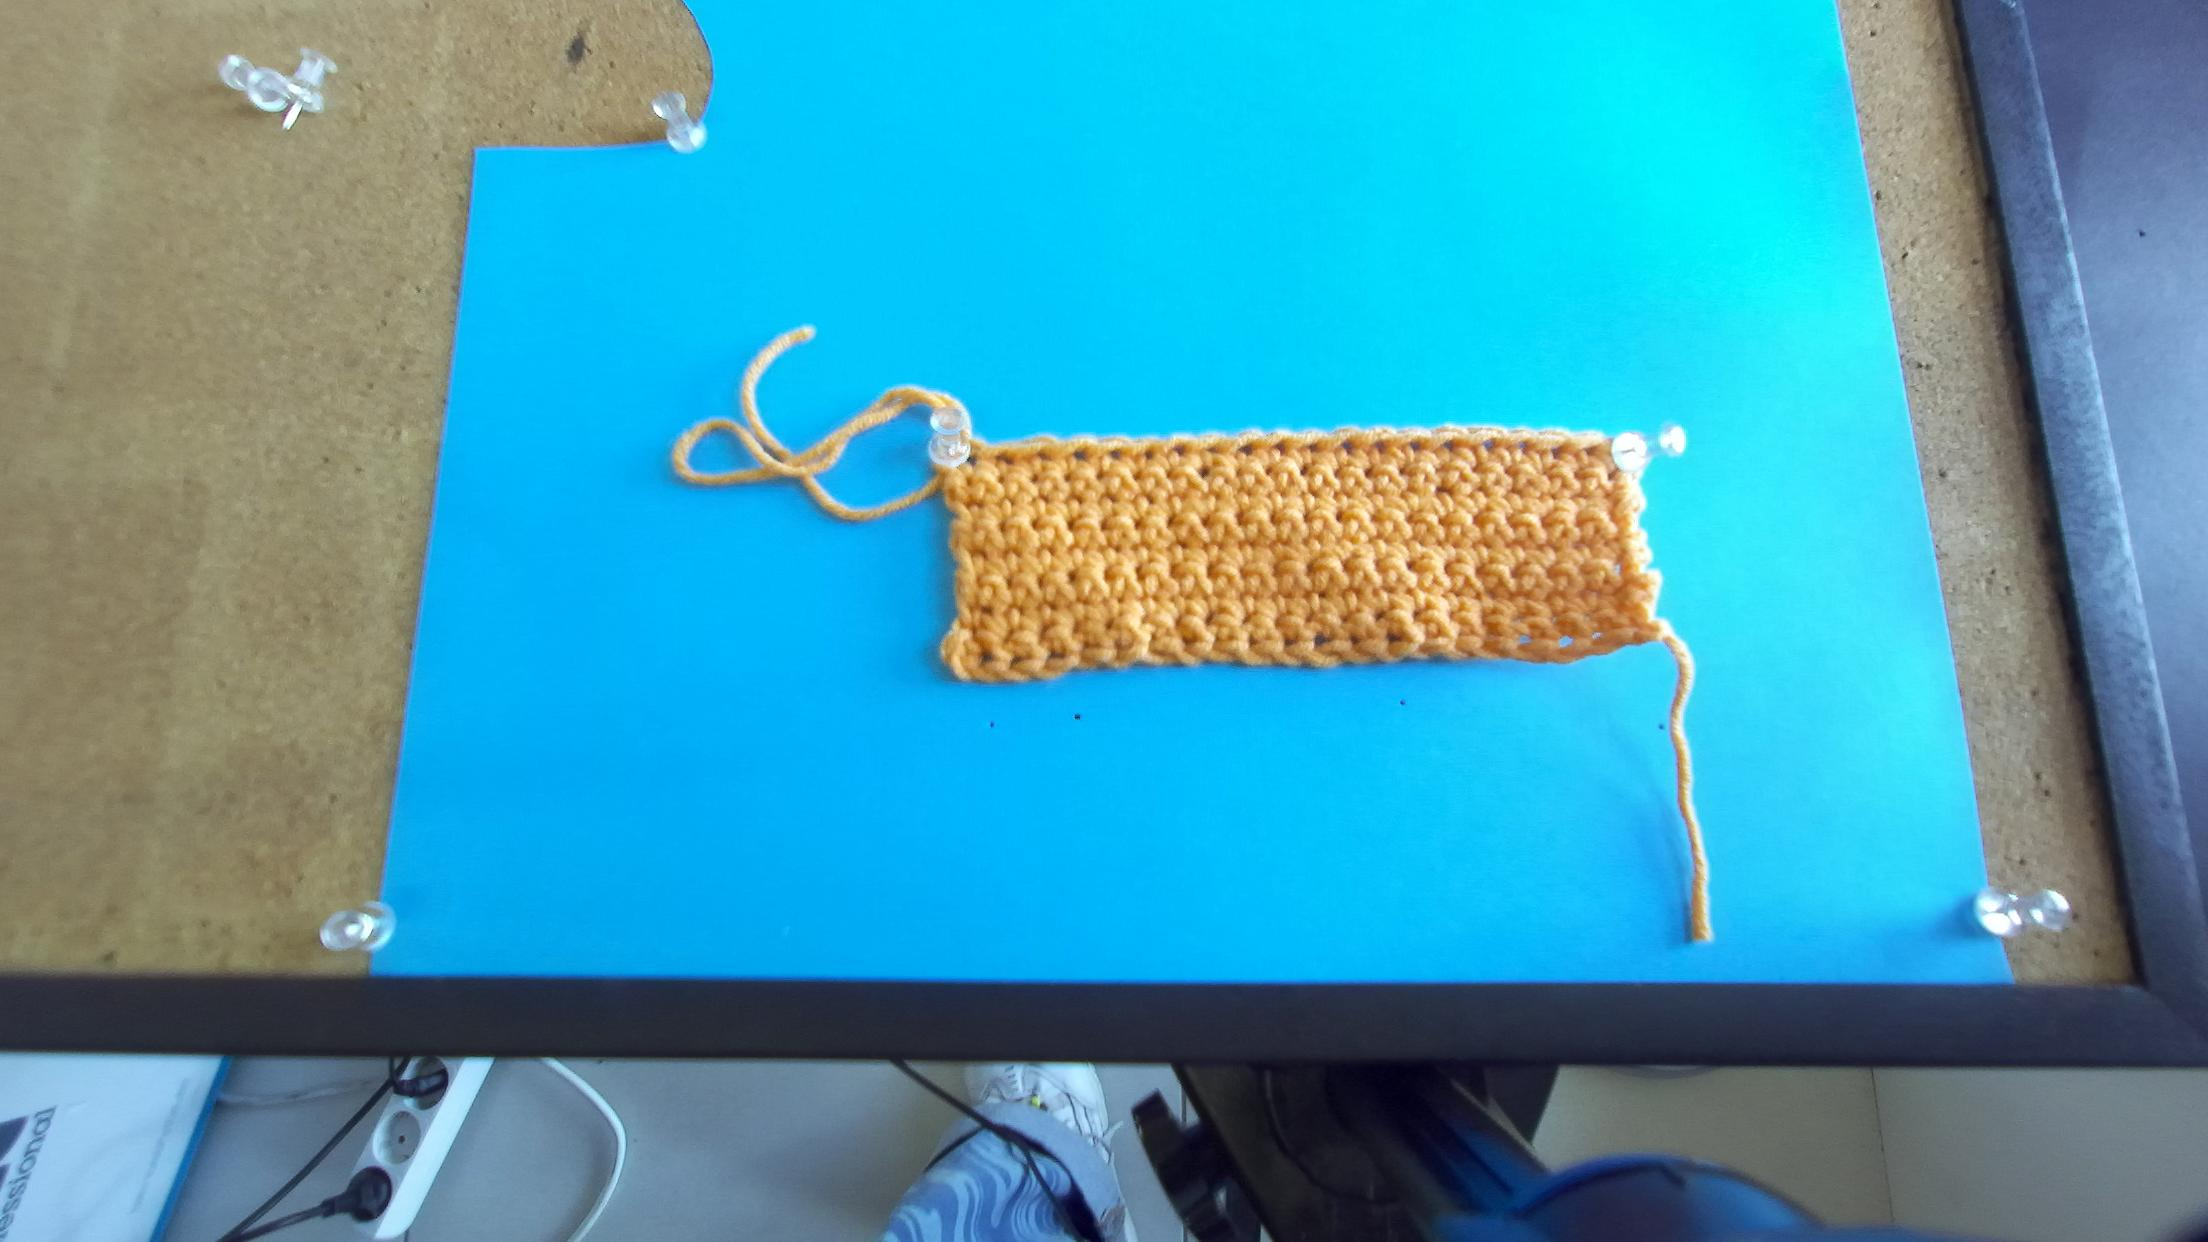hole: (994, 451, 1013, 465), (1237, 441, 1254, 456), (1274, 439, 1286, 457), (1037, 447, 1052, 461), (1339, 439, 1352, 455), (1371, 440, 1385, 454), (1171, 444, 1186, 457), (964, 454, 978, 467), (1516, 441, 1531, 453), (1481, 439, 1495, 451), (1306, 442, 1319, 454), (1442, 439, 1454, 452), (1109, 448, 1121, 460), (1551, 445, 1562, 458), (1072, 450, 1086, 460), (1582, 446, 1597, 455), (1408, 440, 1420, 451), (1143, 449, 1154, 460), (1205, 445, 1220, 453)
swatch: (933, 429, 1665, 687)
